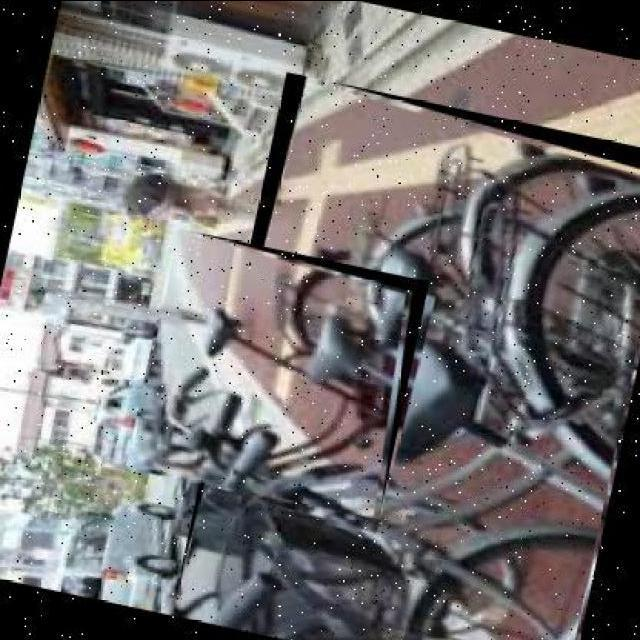bicycle: (171, 70, 640, 640), (129, 228, 432, 522)
